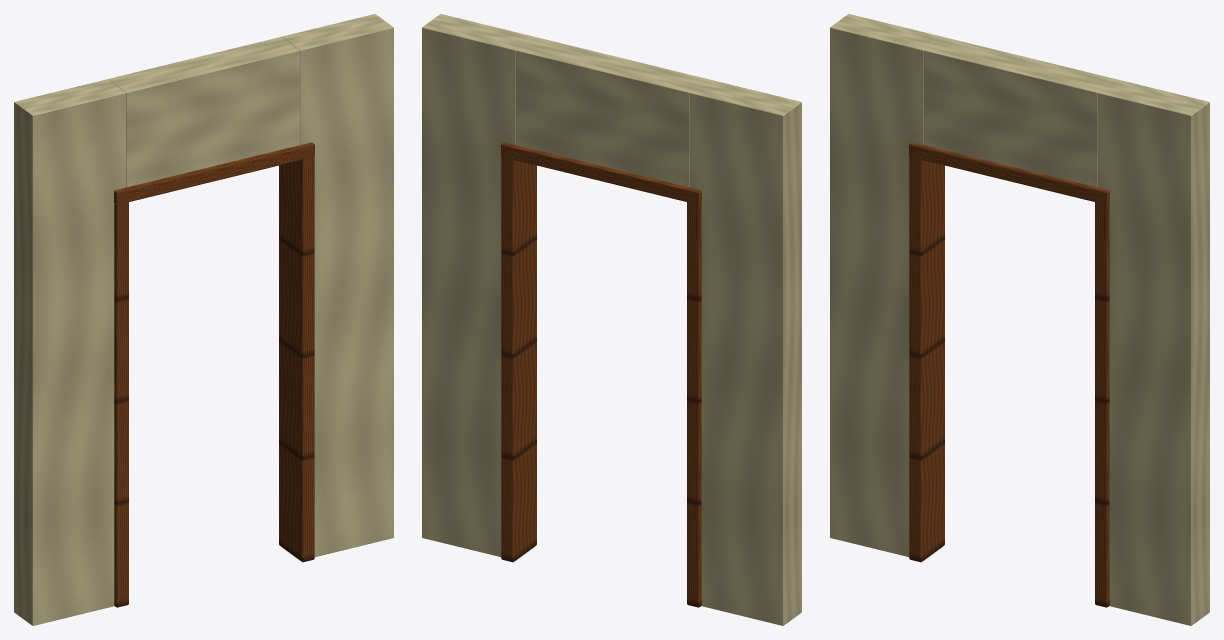
Rendered from three-d-liminal-spaces-kit-liminal-spaces-kit-doorway-open-1c3ac0ea.glb.
3 views of the same model, side by side, from view 1: azimuth 30°, elevation 25°; view 2: azimuth 150°, elevation 25°; view 3: azimuth 330°, elevation 25° (orthographic).
Parts seen in each view (by area): view 1: doorway-open; view 2: doorway-open; view 3: doorway-open.
Part boxes in pixels (left/top/right/bottom): doorway-open: left=14, top=14, right=393, bottom=625; doorway-open: left=422, top=14, right=801, bottom=625; doorway-open: left=830, top=14, right=1209, bottom=625.
Bounding box in the file's own units: 2 × 2.7 × 0.23.
2 materials, 2 textured.
